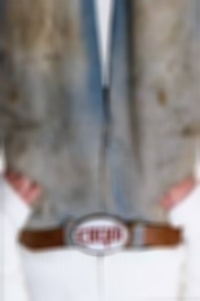earth: (5, 1, 46, 48), (1, 80, 20, 104), (182, 123, 196, 140), (158, 90, 168, 110)
